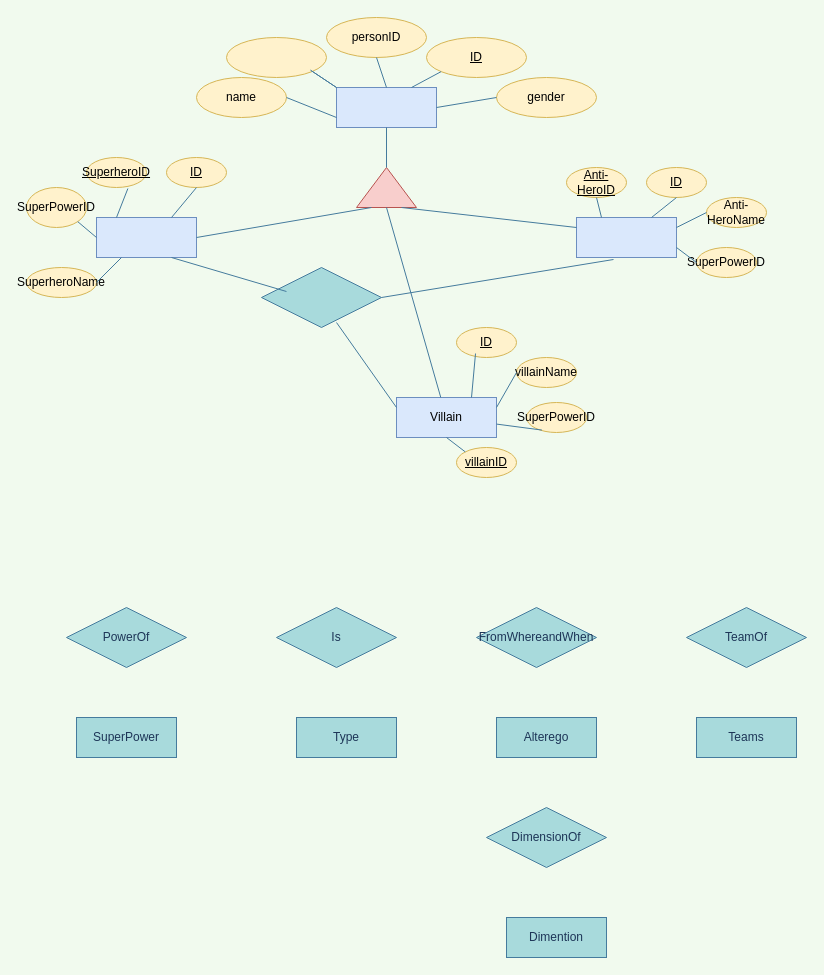
The diagram is 824 pixels wide and 975 high, and some of its shapes have lost their labels. Here are the shapes that lost their labels. From the top down, the centre of each, then its label:
pixel 276 57: DOB
pixel 386 107: Normal Identity
pixel 386 187: ISA
pixel 146 237: Superhero
pixel 626 237: Anti-Hero
pixel 321 297: Archenemy
